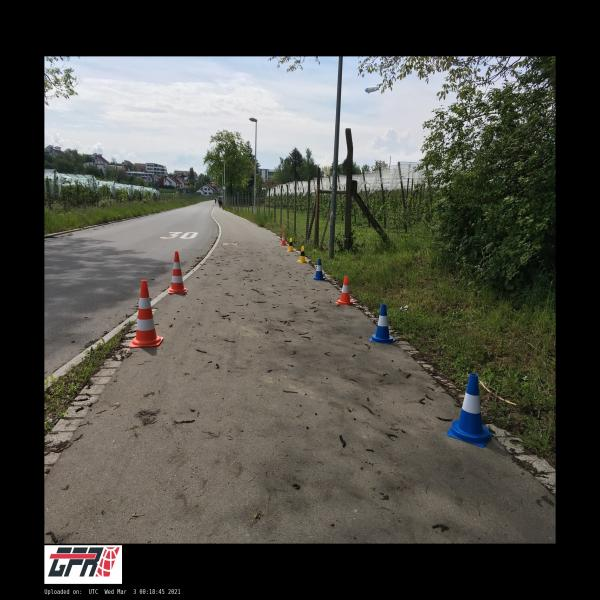blue_cone: (447, 374, 492, 447), (369, 304, 396, 344), (312, 260, 326, 280)
large_orange_cone: (130, 280, 163, 348), (169, 251, 188, 293)
orange_cone: (335, 276, 355, 306), (280, 233, 287, 246)
yellow_cone: (297, 246, 307, 263), (287, 238, 294, 252)
